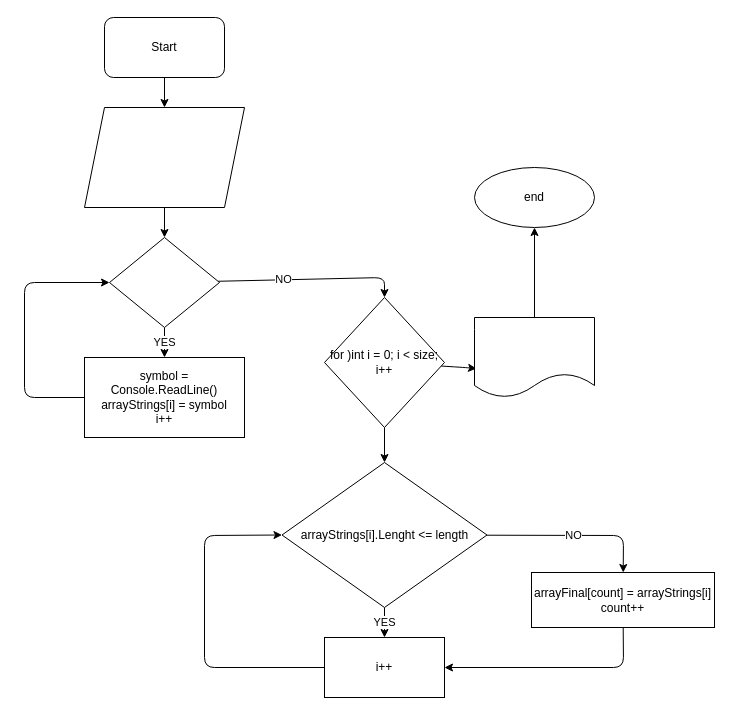
The diagram is 732 pixels wide and 715 high, and some of its shapes have lost their labels. The centre of each missing label's shape, as x and y in pixels:
"for (int i = 0; i < array.Length; i++" goes at pixel 164 282.
"PrintArray(arrayFinal)" goes at pixel 534 357.
"size arrayStrings[size] arrayFinal[size] lenght = 3 count = 0 symbol" goes at pixel 164 157.
